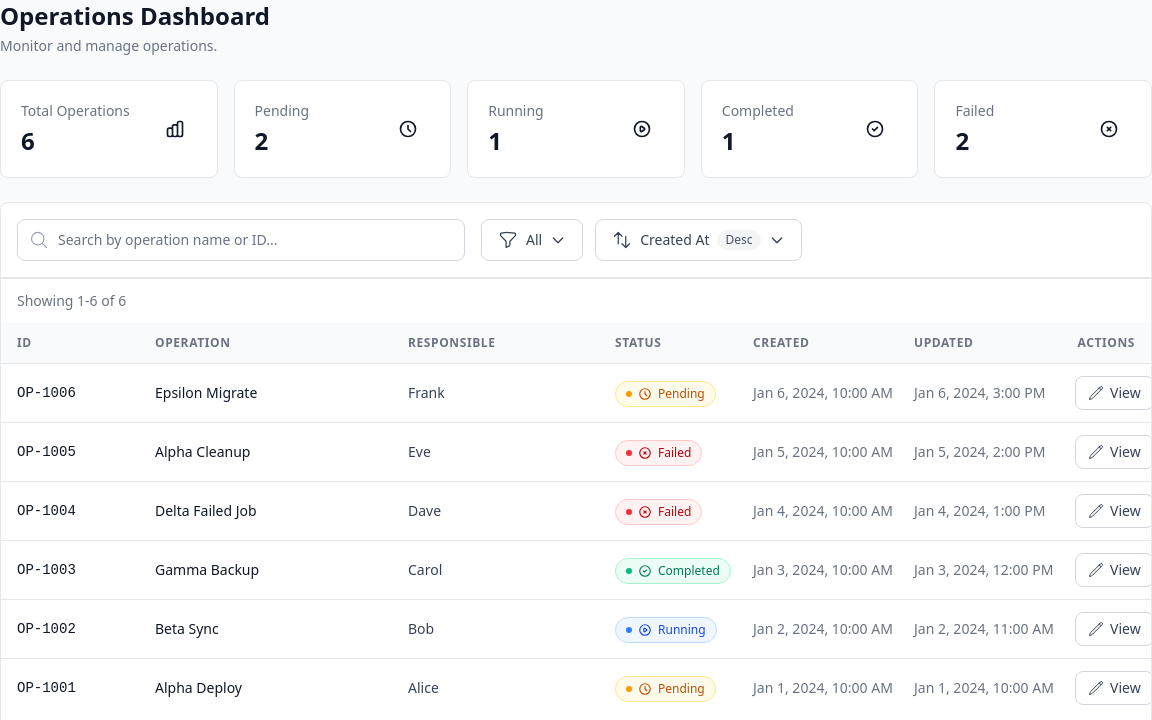
OperationsDashboard › Different response order
Type "A" into the search field named "Search operations".
click(241, 240); type("A")  # box top-left (17, 219), bottom-right (465, 261)
Wait 300 ms
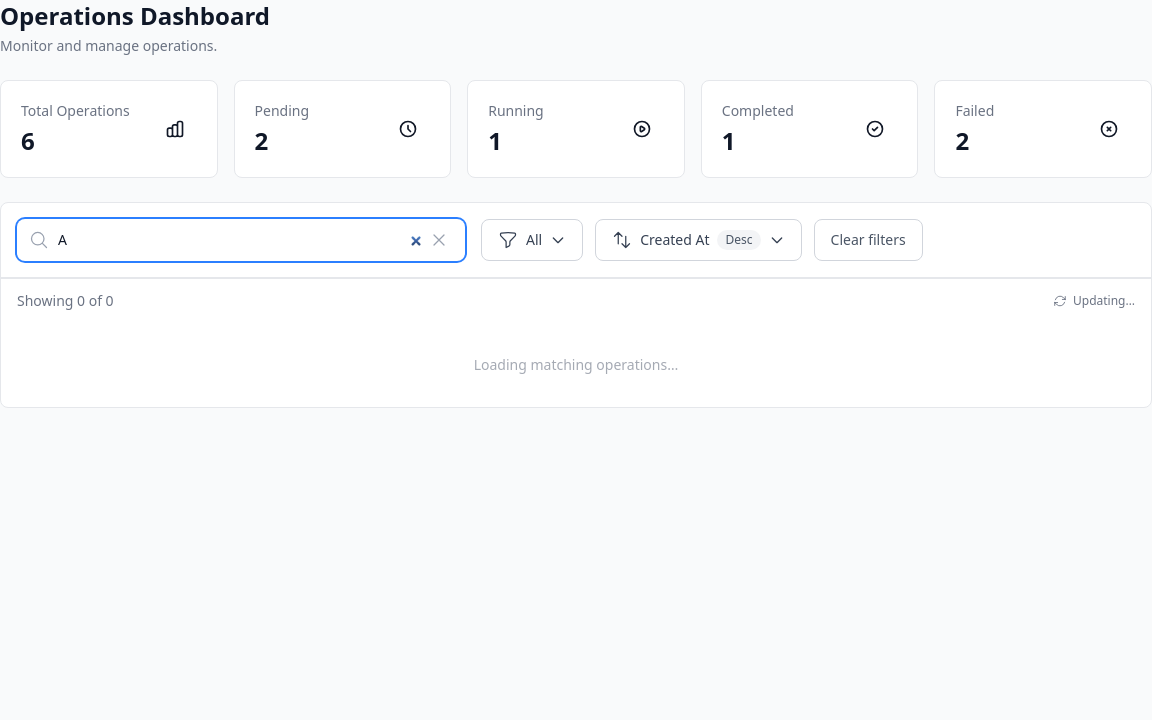
Replace the text in the search field named "Search operations" with "B" at (241, 240), box top-left (17, 219), bottom-right (465, 261)
Wait 350 ms
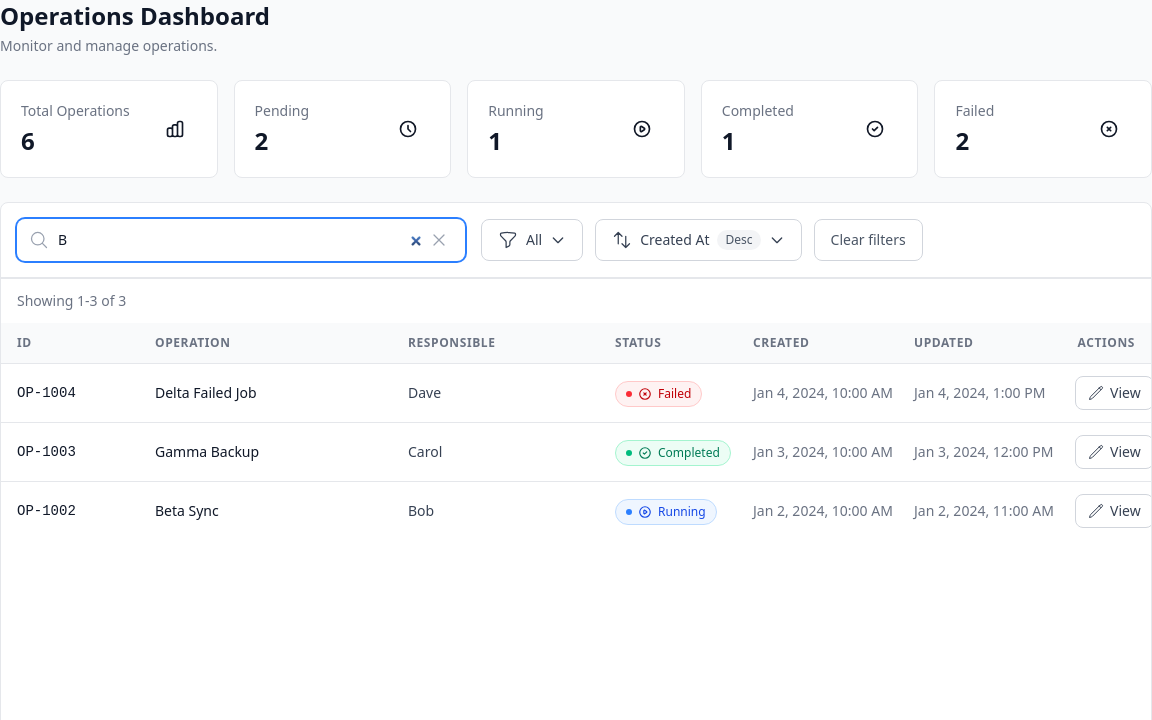
Check: the text "Alpha Deploy" is not shown
Check: the text "Beta Sync" is shown, box top-left (139, 482), bottom-right (392, 540)
